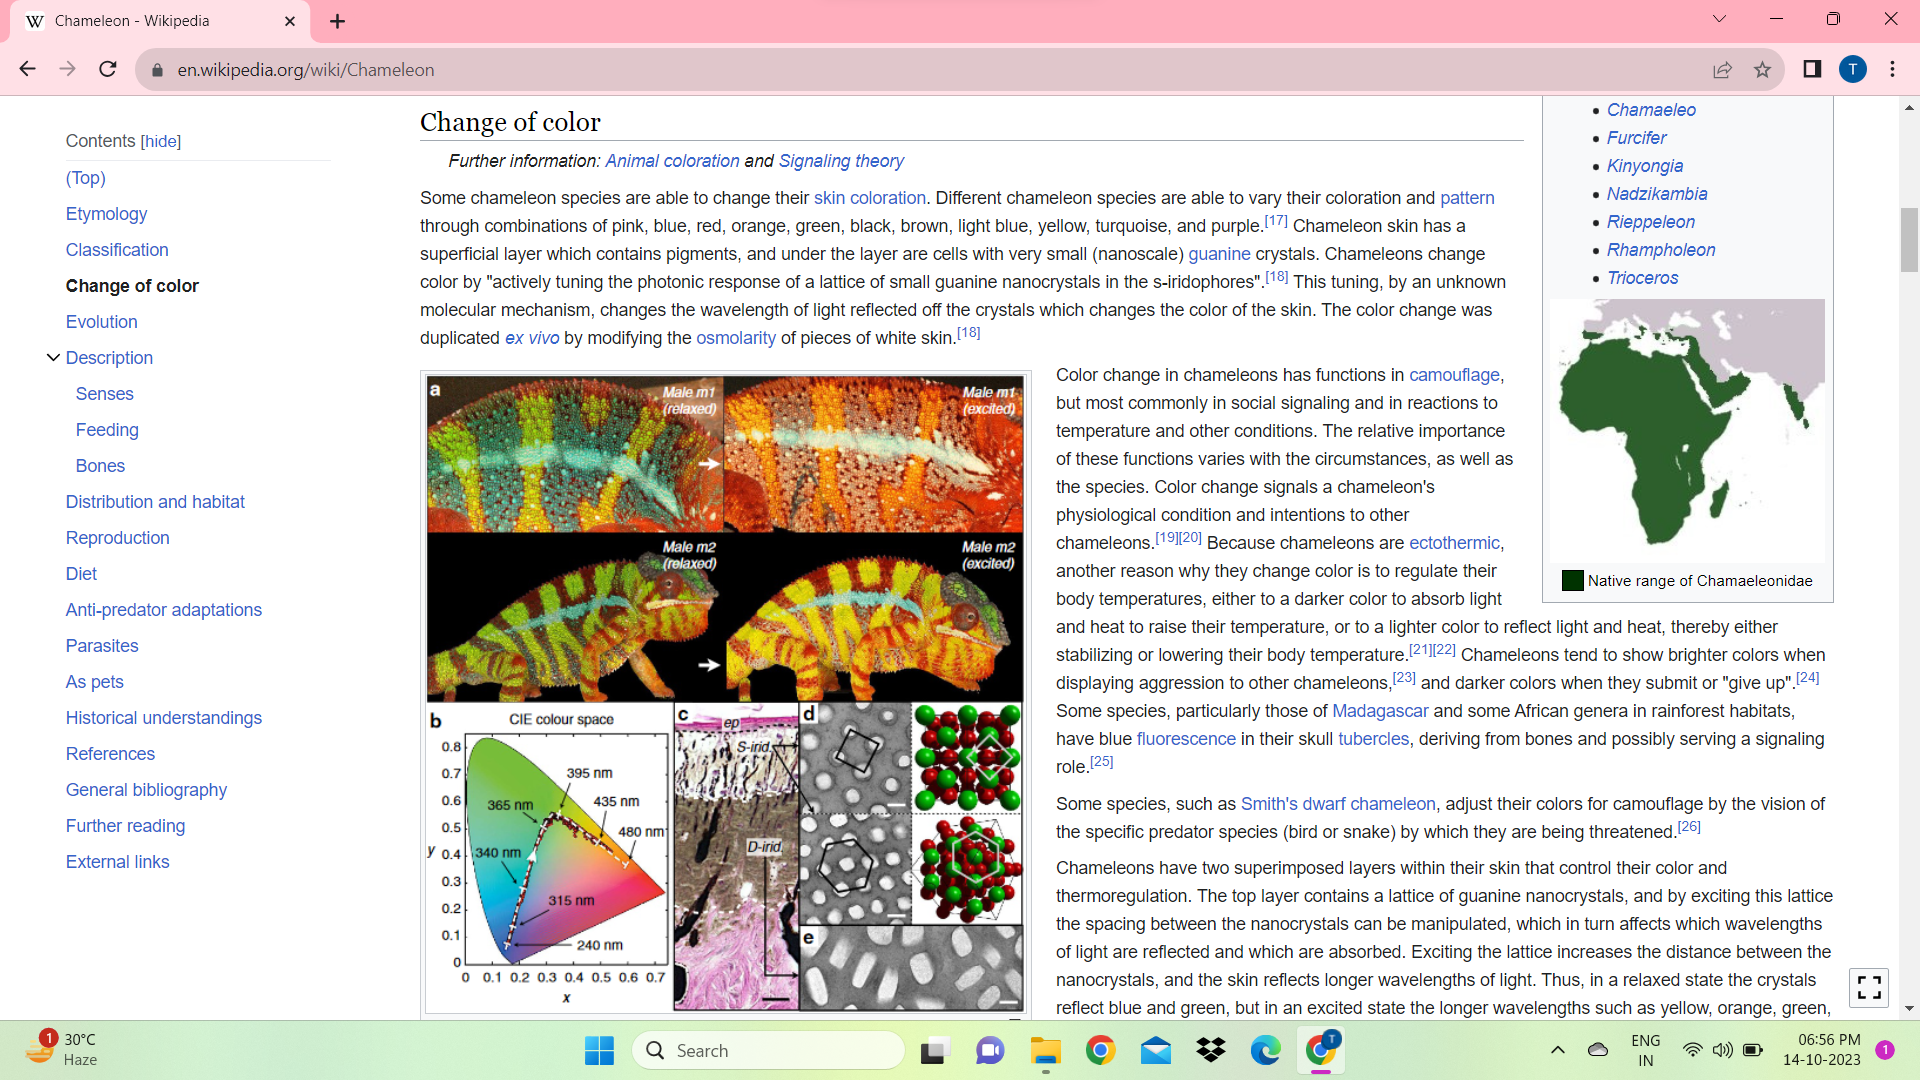Image: (423, 376, 1025, 695), (417, 703, 1025, 1014), (1547, 276, 1829, 576)
Paragraph: (1031, 353, 1818, 756), (393, 177, 1513, 347), (1044, 785, 1840, 1022), (440, 146, 932, 173), (50, 591, 264, 625), (50, 269, 214, 311), (410, 99, 607, 133), (61, 479, 257, 513), (65, 781, 240, 807), (61, 705, 276, 727), (57, 128, 196, 153), (65, 380, 166, 407)
